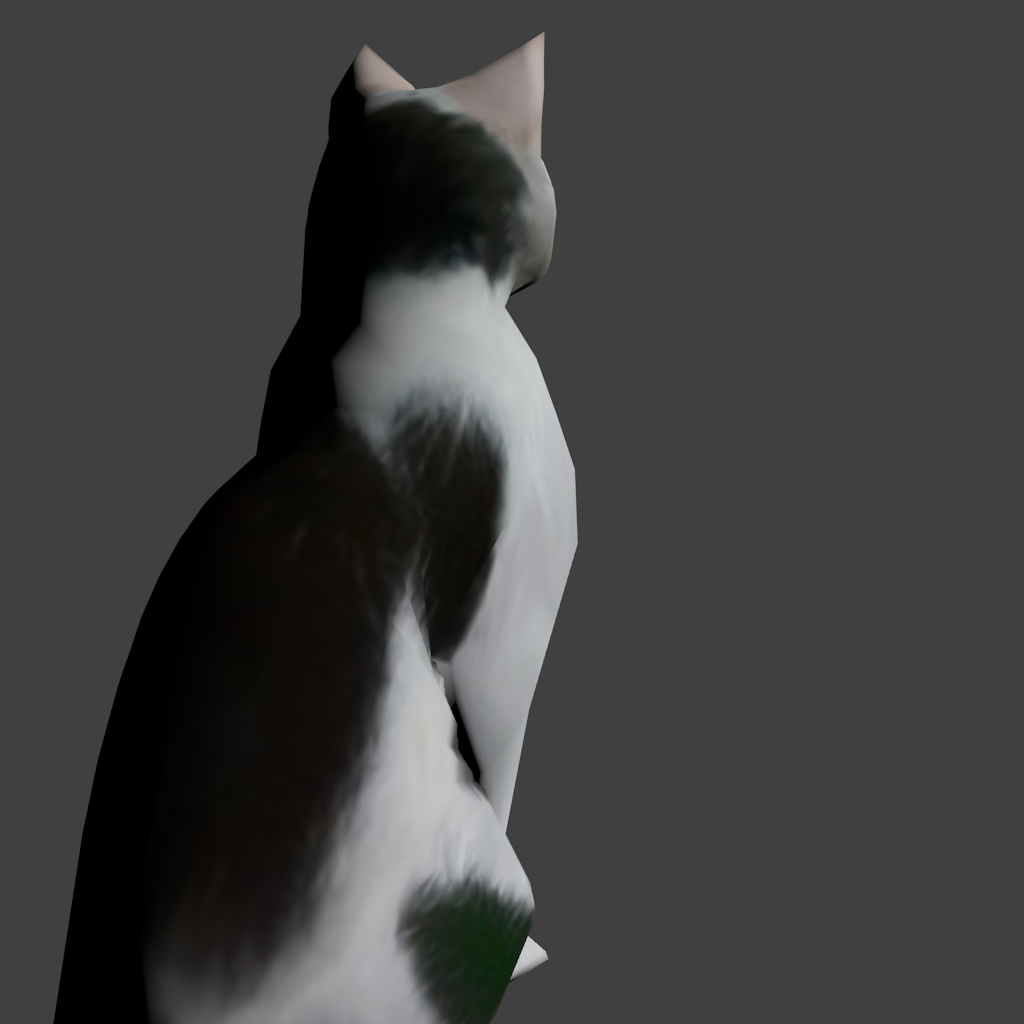Cat: (0, 31, 578, 993)
